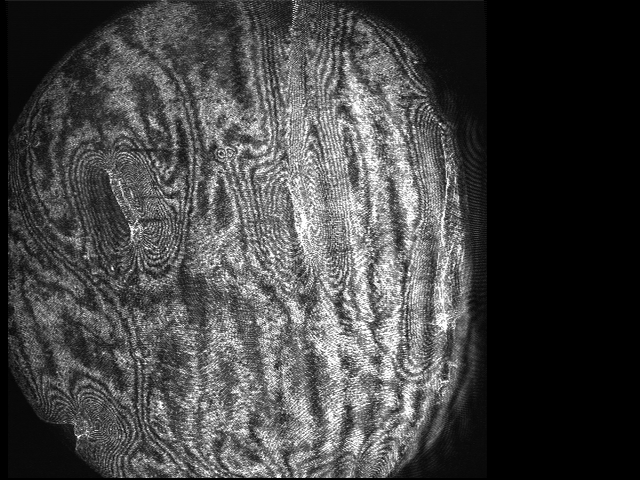plume: (76, 148, 169, 258)
